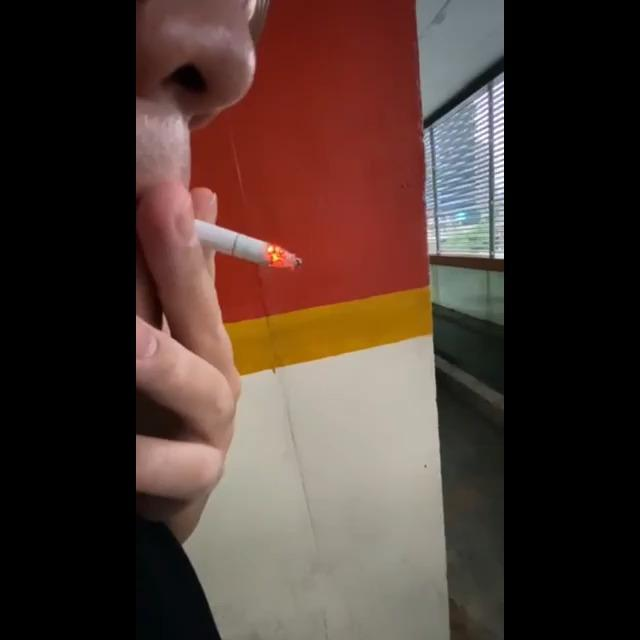rokok: (190, 214, 302, 272)
